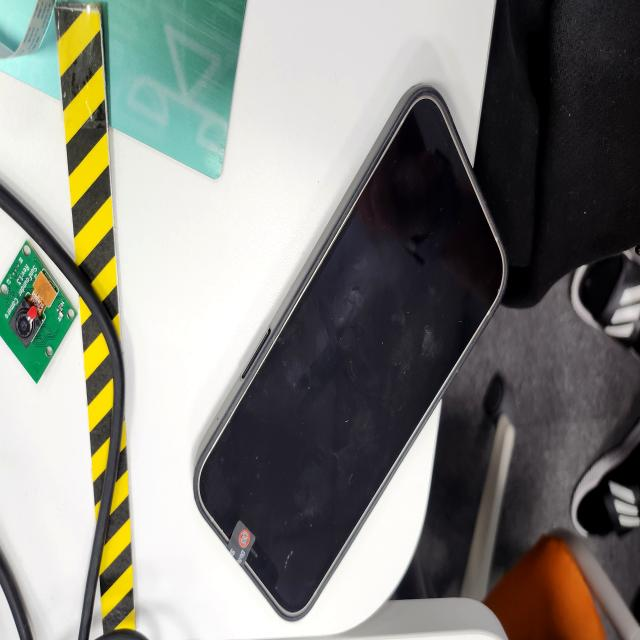phone: (192, 80, 506, 618)
sticker: (227, 519, 256, 570)
